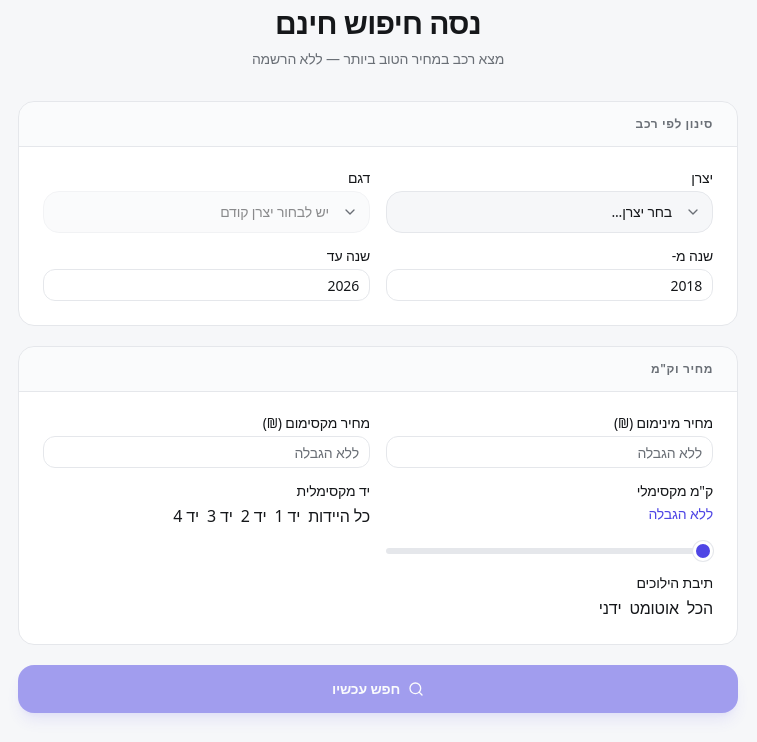
Test: TrySearchPage › enables model select after manufacturer is chosen
Select "טויוטה (Toyota)" in the dropdown labelled "יצרן": x=550, y=212 [386,191,713,233]
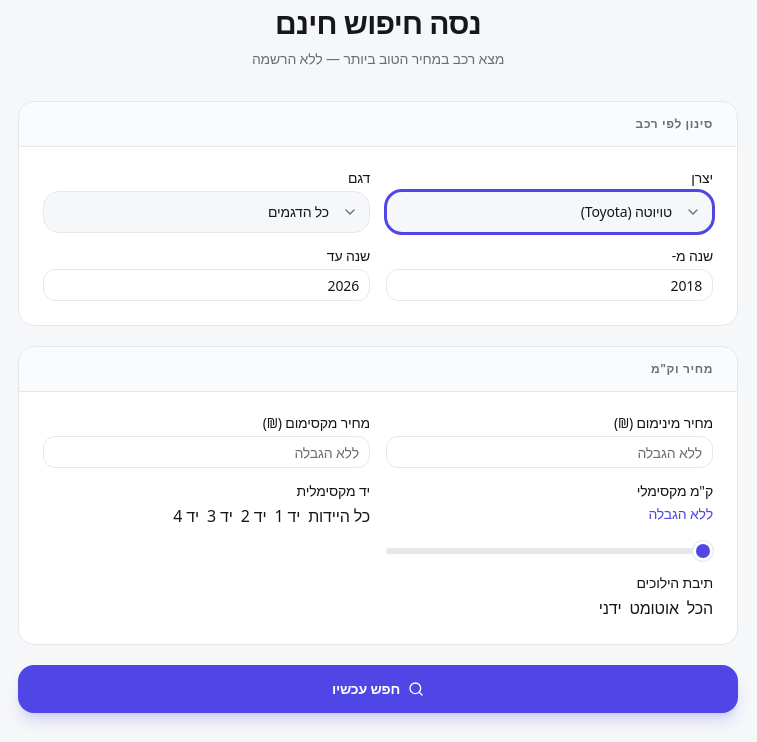
Check: the dropdown labelled "דגם" is enabled, box [43,191,370,233]
